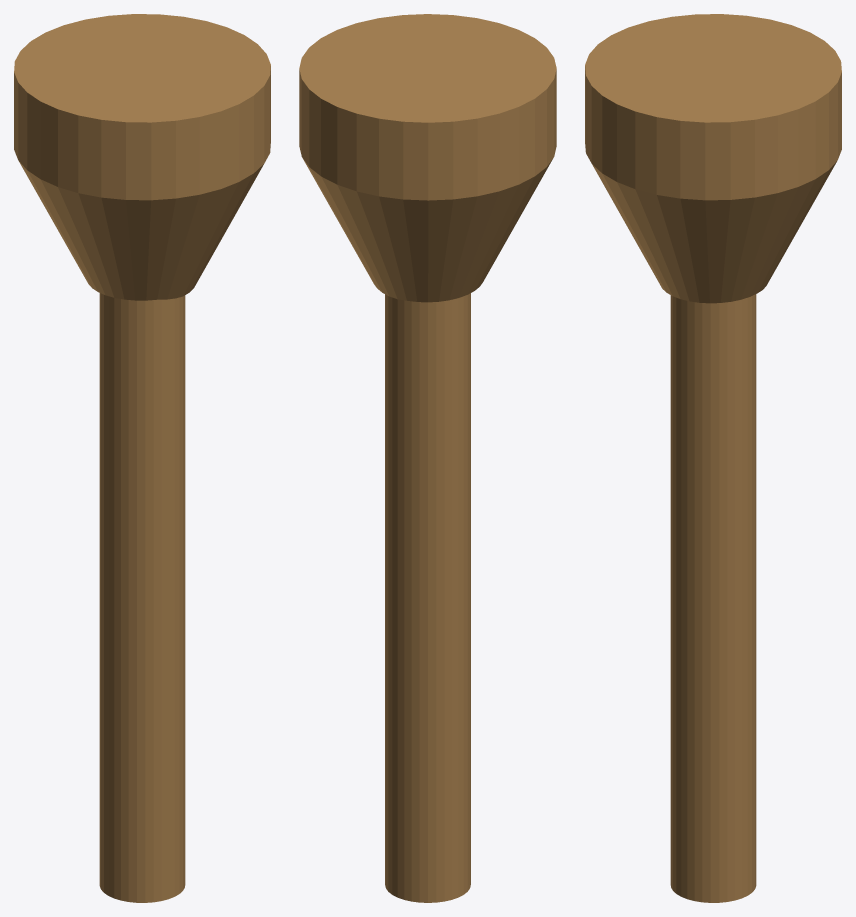
File: ventiladorBase.obj
The picture shows the model from 3 angles, left to right: view 1: azimuth 30°, elevation 25°; view 2: azimuth 150°, elevation 25°; view 3: azimuth 270°, elevation 25°; orthographic projection.
Visible parts, largest first — view 1: Cilindro.001; view 2: Cilindro.001; view 3: Cilindro.001.
Boxes of the visible parts, bbox=[...] form: Cilindro.001: bbox=[14, 14, 270, 902]; Cilindro.001: bbox=[299, 14, 556, 902]; Cilindro.001: bbox=[585, 14, 841, 902].
Size of the model in its own units: 1.22 by 4.27 by 1.22.
1 material, 1 textured.
